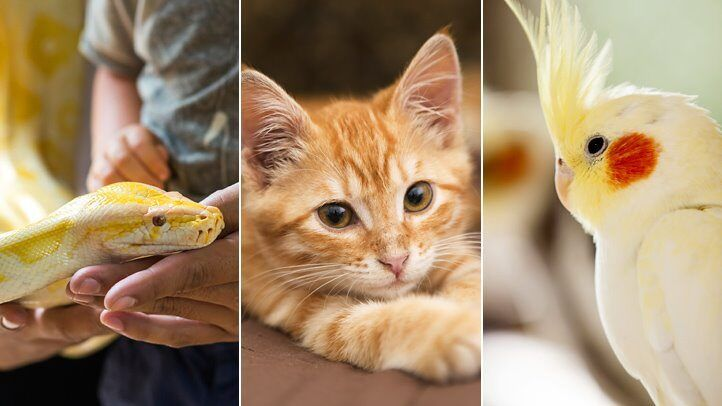pet: (238, 37, 452, 389)
